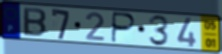2: (85, 11, 106, 42)
3: (147, 14, 170, 47)
4: (175, 16, 198, 49)
7: (50, 7, 71, 41)
B: (22, 6, 48, 38)
P: (111, 11, 138, 45)
